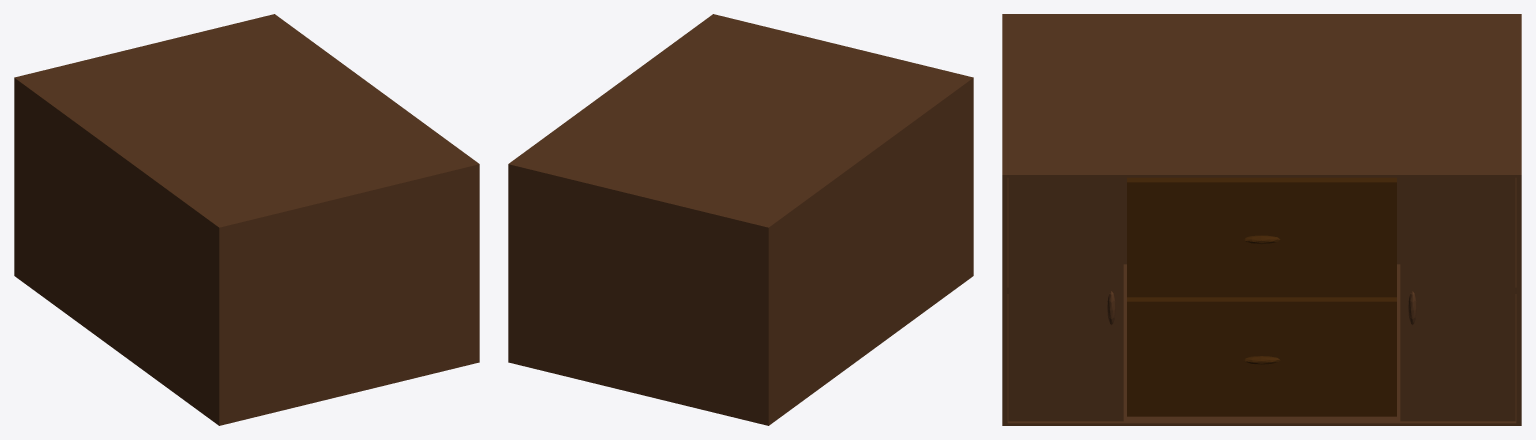
File: unite.fbx
3 renders of one model, left to right at view 1: azimuth 30°, elevation 25°; view 2: azimuth 150°, elevation 25°; view 3: azimuth 270°, elevation 25°, orthographic. The views are drawn at different scales.
Parts seen in each view (by area): view 1: unite; view 2: unite; view 3: unite.
Boxes of the visible parts, box(x1,y1,x2,y2) form: unite: box(14, 14, 479, 425); unite: box(508, 14, 973, 425); unite: box(1002, 14, 1521, 425).
Size of the model in its own units: 111 by 80 by 150.
